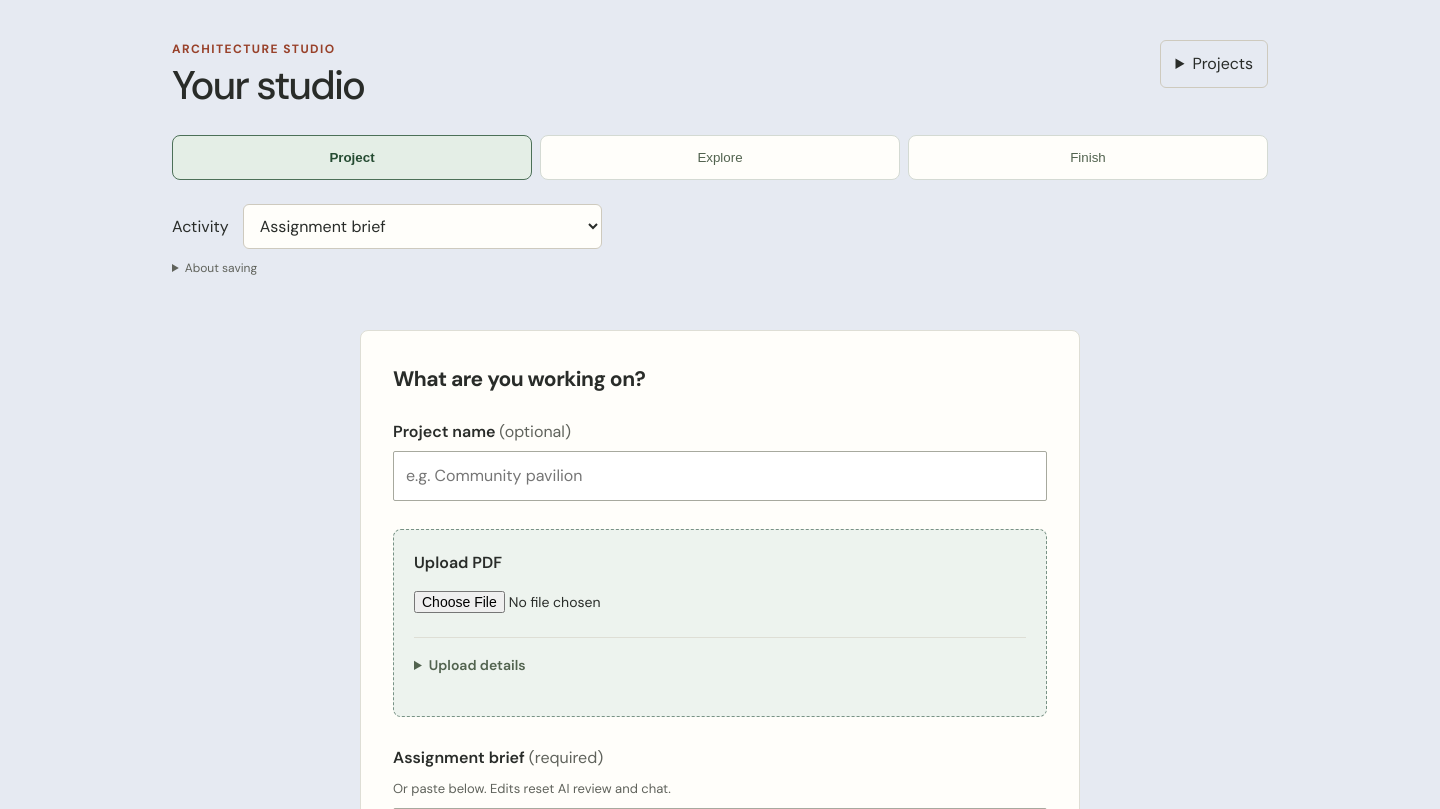
Studio Brainstorm drafts › shows one activity at a time and allows skipping ahead without a brief
Expected: the heading "What are you working on?" is shown, [393,365,645,393]
Click the button "Explore" at (720, 158), box [540,135,900,180]
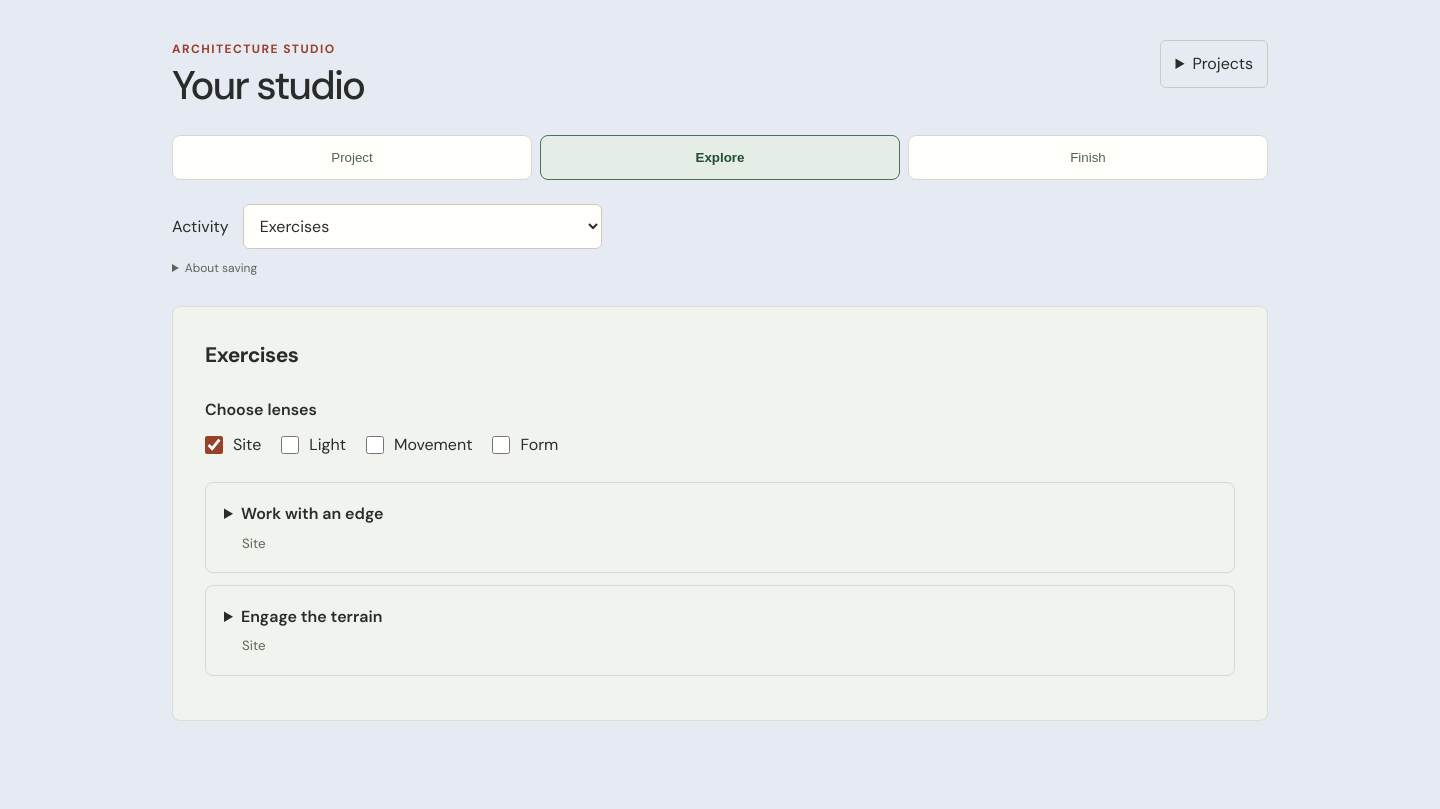
Result: the element named "Brainstorming exercises" is shown at [172,306,1268,721]
Result: the label labelled "Assignment brief" is gone
Click the button "Finish" at (1088, 158), box [908,135,1268,180]
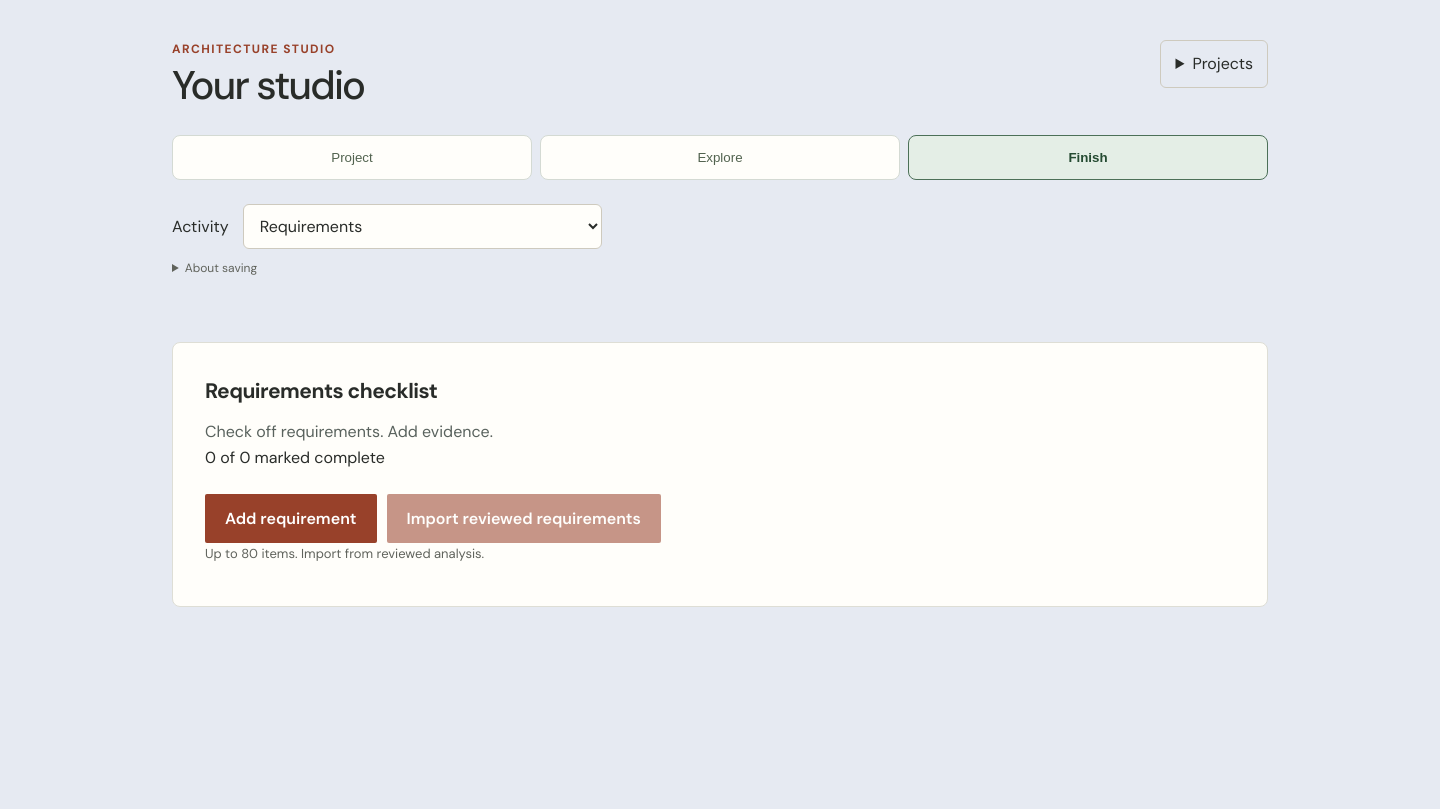
Select "Export notes" in the dropdown labelled "Activity" at (422, 226), box [243,204,602,249]
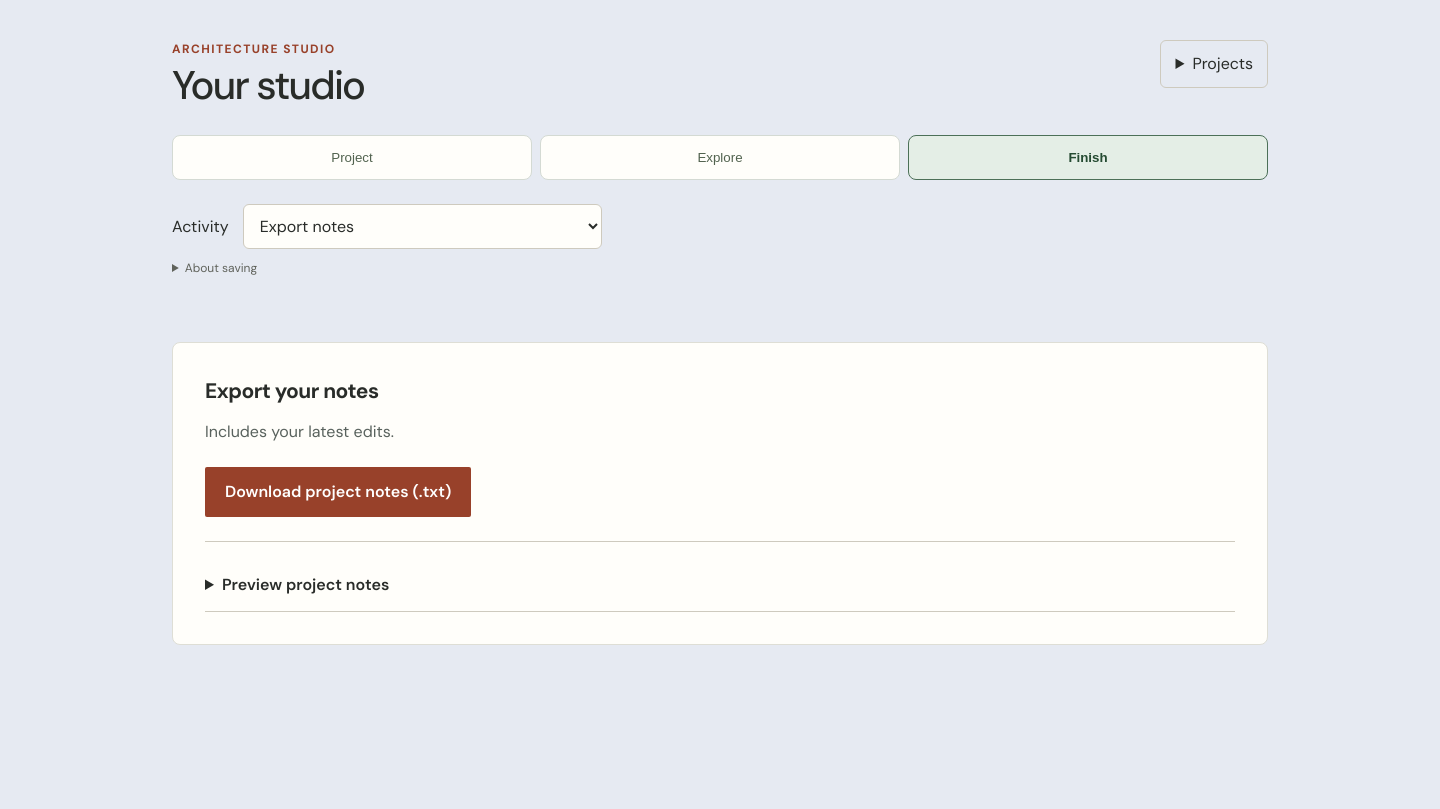
Result: the heading "Export your notes" is shown at [205,377,378,405]
